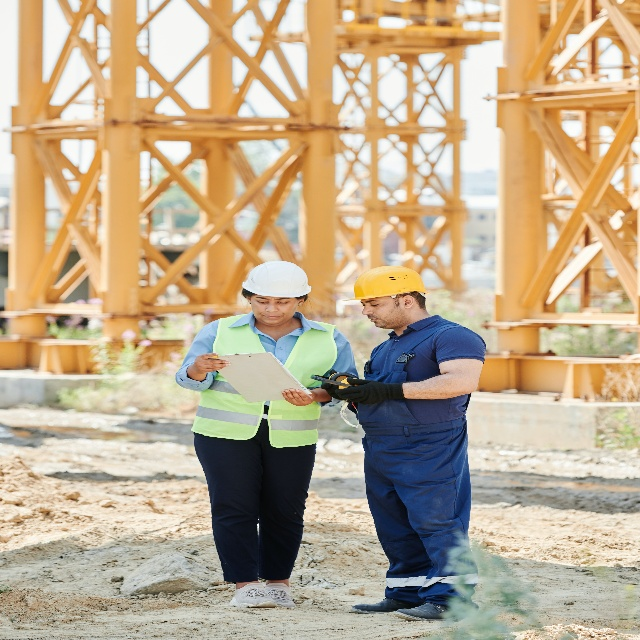Gafas: (340, 399, 359, 428)
Guantes: (334, 377, 404, 412), (322, 369, 343, 408)
Sin_guantes: (194, 350, 231, 376), (283, 384, 313, 406)
